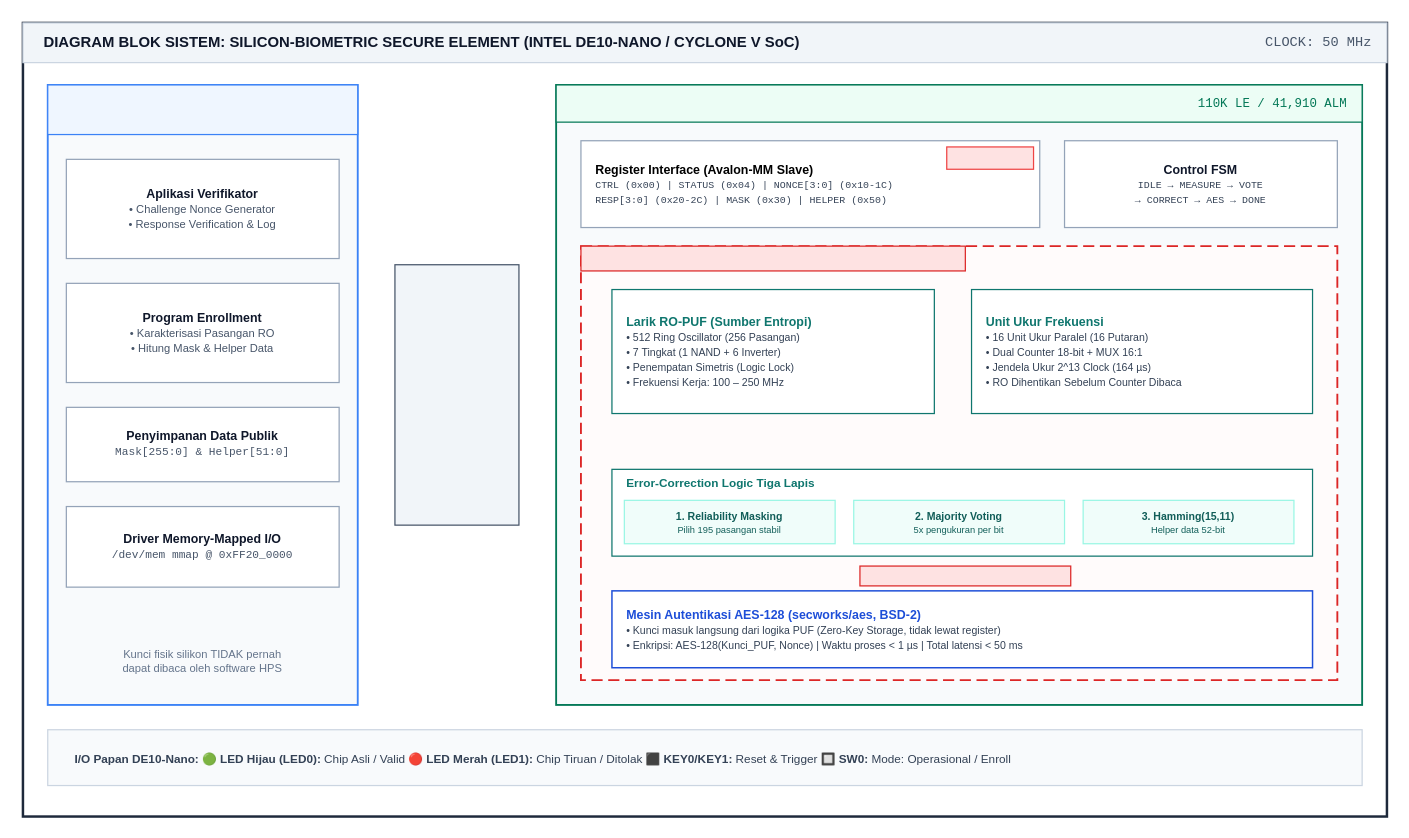
The diagram is 1409 pixels wide and 838 high, and some of its shapes have lost their labels. The shapes that lost their labels are listed below. From the top down, each one's box as (x1, y1, x2, y2) in pixels, then its label:
(46, 84, 358, 135): Hard Processor System (HPS) ARM Cortex-A9 | Linux OS
(555, 84, 1362, 122): FPGA Fabric (Cyclone V)
(946, 146, 1034, 169): LOCK BIT
(580, 245, 965, 271): BATAS KEAMANAN: KUNCI TIDAK KELUAR KE HPS
(394, 264, 519, 525): Lightweight HPS-to-FPGA Bridge AXI ke Avalon 32-bit Bus 0xFF20_0000
(859, 565, 1071, 586): KUNCI PUF [128-bit] (INTERNAL)
